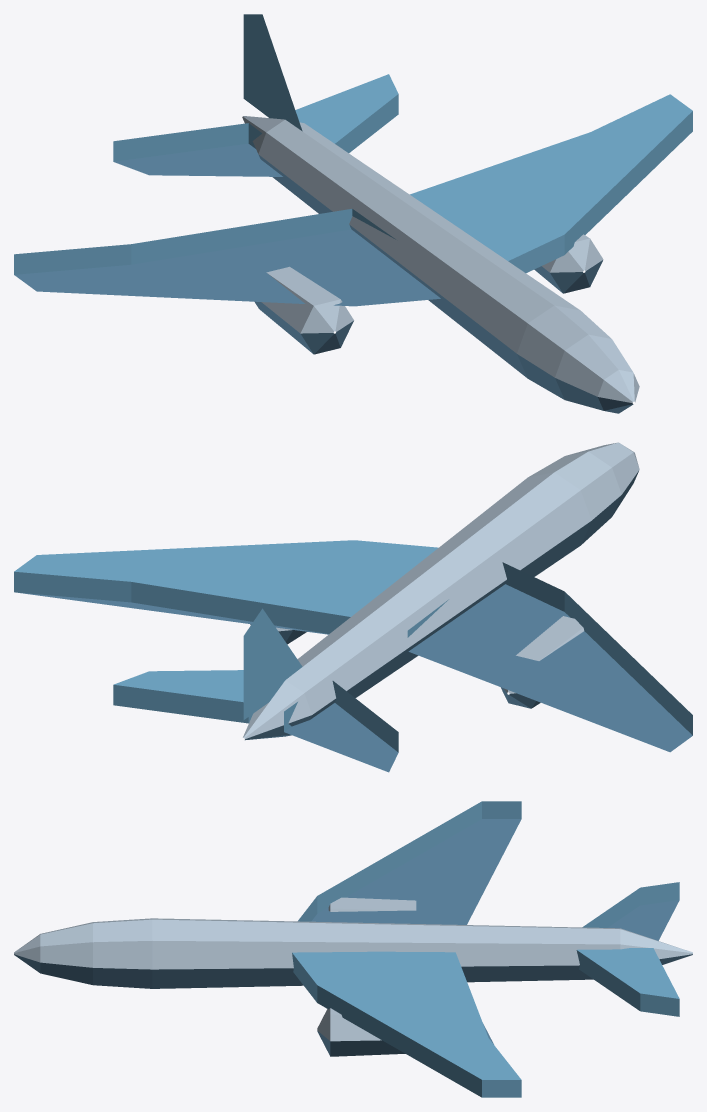
The model's file is aircraft.glb.
3 views of the same model, one above another, from view 1: azimuth 30°, elevation 25°; view 2: azimuth 150°, elevation 25°; view 3: azimuth 270°, elevation 25° (orthographic). The views are drawn at different scales.
Parts seen in each view (by area): view 1: AircraftNear; view 2: AircraftNear; view 3: AircraftNear.
Part boxes in pixels (box(x1,y1,x2,y2)): AircraftNear: box(14, 14, 692, 413); AircraftNear: box(14, 442, 692, 772); AircraftNear: box(14, 801, 692, 1097).
Size of the model in its own units: 1 by 0.2445 by 1.03.
